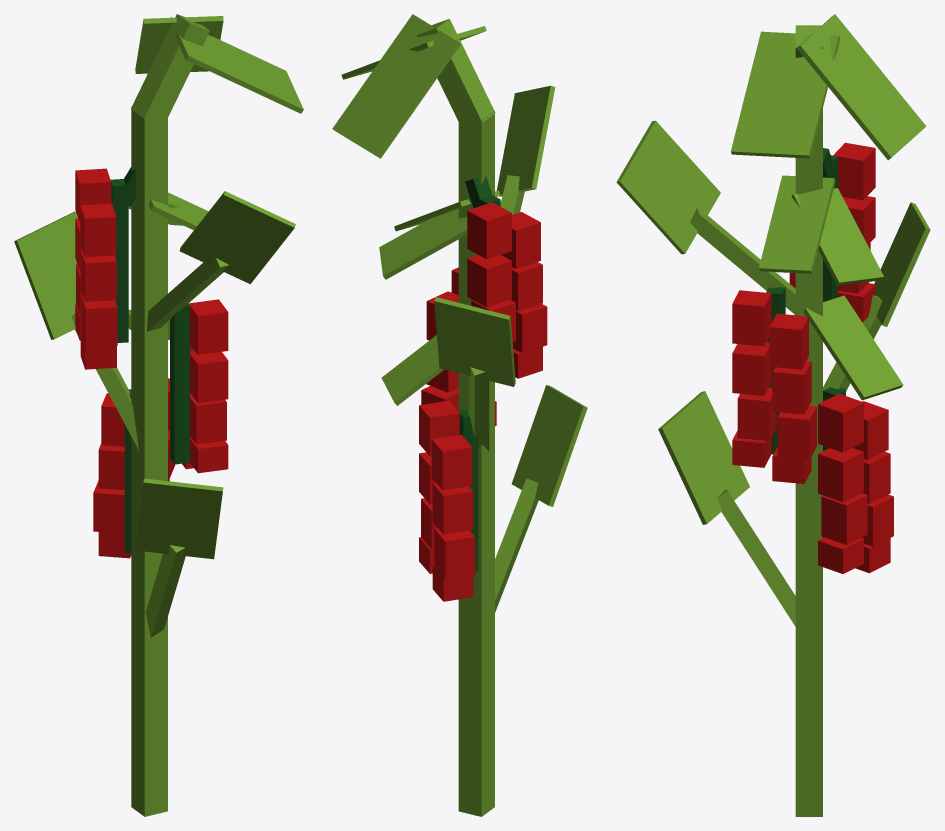
The model's file is tomato.gltf.
The picture shows the model from 3 angles, left to right: view 1: azimuth 30°, elevation 25°; view 2: azimuth 150°, elevation 25°; view 3: azimuth 270°, elevation 25°; orthographic projection. The views are drawn at different scales.
Visible parts, largest first — view 1: 2f95a8cc-bbbc-db35-044c-f79740e91d66, 3d3684a8-469f-cd9f-9ad0-0c3af5637bec, 923728d6-7e14-abfe-4ef2-f1e9526024a1, 3b1a7608-53c4-af62-febc-fd05c231e23b, 12808d8a-7fcb-d9f8-b484-8383ef2ca720, 1c1d66ed-9e6c-5e8b-8d97-fb99c0bffa9e, 72d5f936-1b90-3225-c6c1-55bc365ce32f, 460db014-a0b4-1400-b203-c438f9941065, 3a6cfa20-1c8c-8196-f0b9-668acd8f6ec1, 655c0ab5-82f5-9d0b-45e9-ba6063061cf5, 4a72571e-9fbe-2ec7-f372-8be7525caeb4, bc48dd88-ebae-43d4-f98c-9e8b577dc689 (+15 smaller); view 2: 2f95a8cc-bbbc-db35-044c-f79740e91d66, 62973c73-a9b2-0740-a452-9221e07f1636, 3b1a7608-53c4-af62-febc-fd05c231e23b, 923728d6-7e14-abfe-4ef2-f1e9526024a1, 3d3684a8-469f-cd9f-9ad0-0c3af5637bec, ab19b075-7ef3-31c9-f50c-b36f17102648, 1c1d66ed-9e6c-5e8b-8d97-fb99c0bffa9e, c633e6a8-42a6-5645-228c-e78a0c26ae9b, 4a72571e-9fbe-2ec7-f372-8be7525caeb4, 32cad50a-5f7a-a66a-2e86-b087a7491849, 5bef9a45-ce1c-1ced-73d4-d9906a71e1f7, c0a478c5-0edd-5e15-7f33-a62c24dce45a (+20 smaller); view 3: 2f95a8cc-bbbc-db35-044c-f79740e91d66, 12808d8a-7fcb-d9f8-b484-8383ef2ca720, 62973c73-a9b2-0740-a452-9221e07f1636, 3d3684a8-469f-cd9f-9ad0-0c3af5637bec, 923728d6-7e14-abfe-4ef2-f1e9526024a1, 793fa40c-0e1f-5cbd-f324-745181b0e50e, 5bef9a45-ce1c-1ced-73d4-d9906a71e1f7, ab19b075-7ef3-31c9-f50c-b36f17102648, 3b1a7608-53c4-af62-febc-fd05c231e23b, 3a6cfa20-1c8c-8196-f0b9-668acd8f6ec1, 4a72571e-9fbe-2ec7-f372-8be7525caeb4, 13f28e48-2001-079a-07df-d4a762a0487f (+21 smaller).
Boxes of the visible parts, x1,y1,x2,y2 form: 2f95a8cc-bbbc-db35-044c-f79740e91d66: (131, 106, 167, 816); 3d3684a8-469f-cd9f-9ad0-0c3af5637bec: (179, 191, 295, 284); 923728d6-7e14-abfe-4ef2-f1e9526024a1: (134, 478, 223, 559); 3b1a7608-53c4-af62-febc-fd05c231e23b: (14, 211, 78, 339); 12808d8a-7fcb-d9f8-b484-8383ef2ca720: (171, 17, 303, 113); 1c1d66ed-9e6c-5e8b-8d97-fb99c0bffa9e: (131, 14, 209, 125); 72d5f936-1b90-3225-c6c1-55bc365ce32f: (170, 303, 189, 464); 460db014-a0b4-1400-b203-c438f9941065: (110, 179, 128, 342); 3a6cfa20-1c8c-8196-f0b9-668acd8f6ec1: (147, 258, 229, 331); 655c0ab5-82f5-9d0b-45e9-ba6063061cf5: (188, 299, 228, 354); 4a72571e-9fbe-2ec7-f372-8be7525caeb4: (145, 545, 185, 637); bc48dd88-ebae-43d4-f98c-9e8b577dc689: (80, 203, 116, 257); 2f95a8cc-bbbc-db35-044c-f79740e91d66: (458, 111, 494, 816); 62973c73-a9b2-0740-a452-9221e07f1636: (332, 14, 460, 158); 3b1a7608-53c4-af62-febc-fd05c231e23b: (434, 297, 515, 386); 923728d6-7e14-abfe-4ef2-f1e9526024a1: (511, 385, 587, 506); 3d3684a8-469f-cd9f-9ad0-0c3af5637bec: (496, 85, 555, 196); ab19b075-7ef3-31c9-f50c-b36f17102648: (379, 209, 467, 279); 1c1d66ed-9e6c-5e8b-8d97-fb99c0bffa9e: (416, 19, 495, 129); c633e6a8-42a6-5645-228c-e78a0c26ae9b: (467, 202, 511, 259); 4a72571e-9fbe-2ec7-f372-8be7525caeb4: (495, 478, 538, 612); 32cad50a-5f7a-a66a-2e86-b087a7491849: (467, 255, 511, 307); 5bef9a45-ce1c-1ced-73d4-d9906a71e1f7: (381, 335, 444, 405); c0a478c5-0edd-5e15-7f33-a62c24dce45a: (431, 434, 472, 490); 2f95a8cc-bbbc-db35-044c-f79740e91d66: (795, 108, 822, 816); 12808d8a-7fcb-d9f8-b484-8383ef2ca720: (731, 31, 840, 158); 62973c73-a9b2-0740-a452-9221e07f1636: (797, 14, 926, 160); 3d3684a8-469f-cd9f-9ad0-0c3af5637bec: (616, 120, 720, 254); 923728d6-7e14-abfe-4ef2-f1e9526024a1: (658, 391, 749, 524); 793fa40c-0e1f-5cbd-f324-745181b0e50e: (759, 175, 835, 273); 5bef9a45-ce1c-1ced-73d4-d9906a71e1f7: (804, 295, 903, 400); ab19b075-7ef3-31c9-f50c-b36f17102648: (791, 188, 883, 285); 3b1a7608-53c4-af62-febc-fd05c231e23b: (874, 202, 930, 326); 3a6cfa20-1c8c-8196-f0b9-668acd8f6ec1: (690, 207, 795, 314); 4a72571e-9fbe-2ec7-f372-8be7525caeb4: (717, 489, 795, 626); 13f28e48-2001-079a-07df-d4a762a0487f: (818, 393, 863, 452).
Bounding box in the file's own units: 0.5965 × 2.02 × 0.7179.
Materials: 3 (3 with a texture image).
